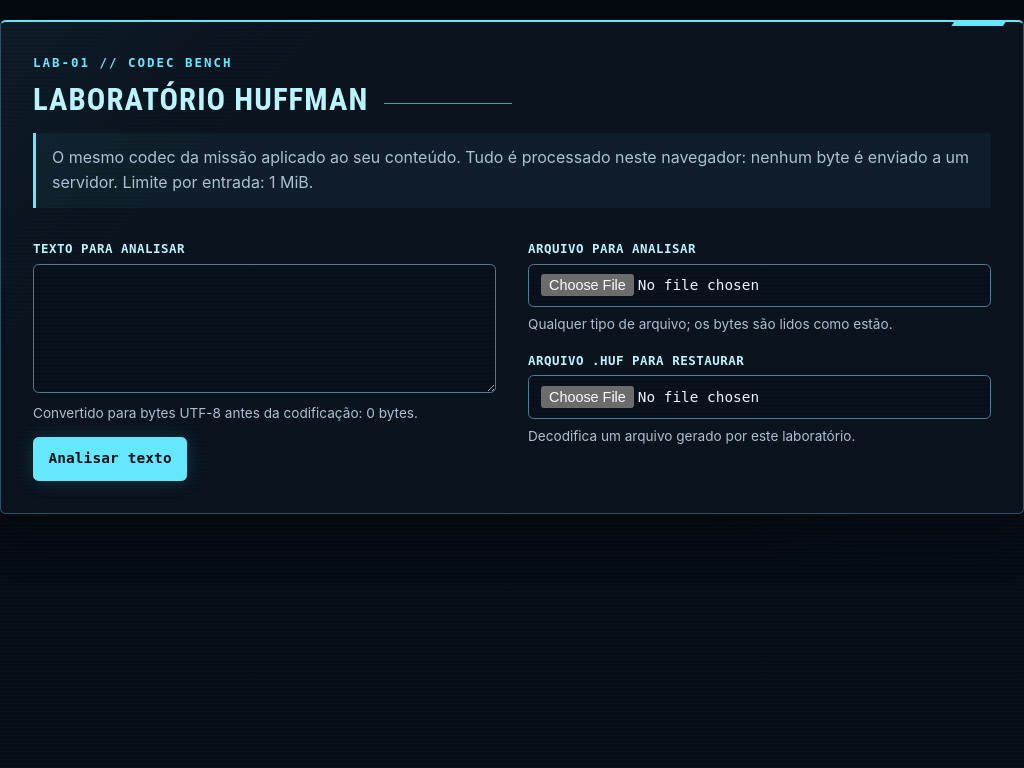
Test: LabTerminal › analisa um texto e exibe tamanhos, padding e taxa efetiva calculados pelo codec
Type "abracadabra abracadabra" into the text box labelled "Texto para analisar". click: (264, 328)
box: 33,264 -> 496,393
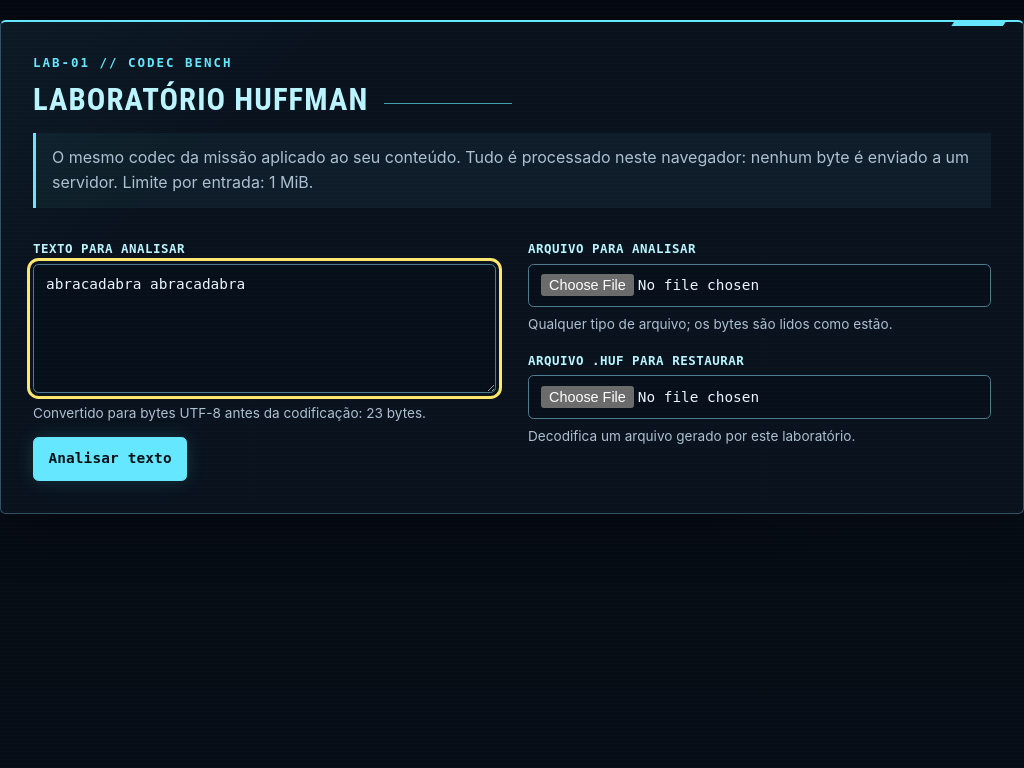
Click the button "Analisar texto". click: (110, 459)
box: 33,437 -> 187,481
(page scrolled)
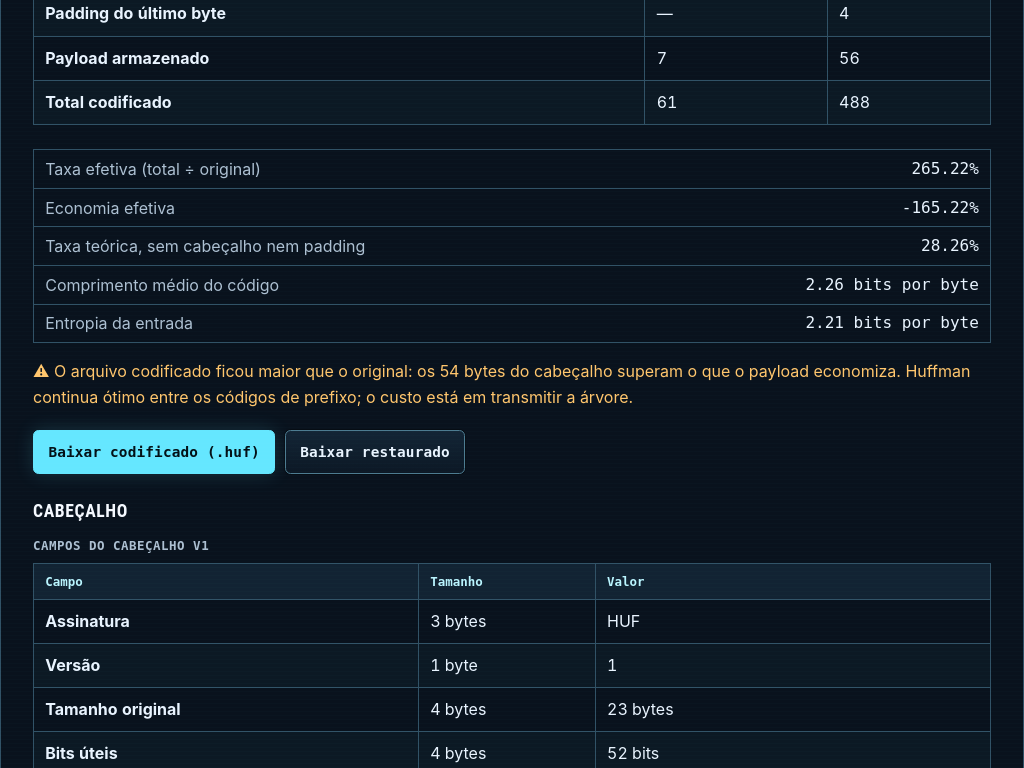
Check: the text "O arquivo codificado ficou maior que o original" is shown, box 33,361 -> 440,381
